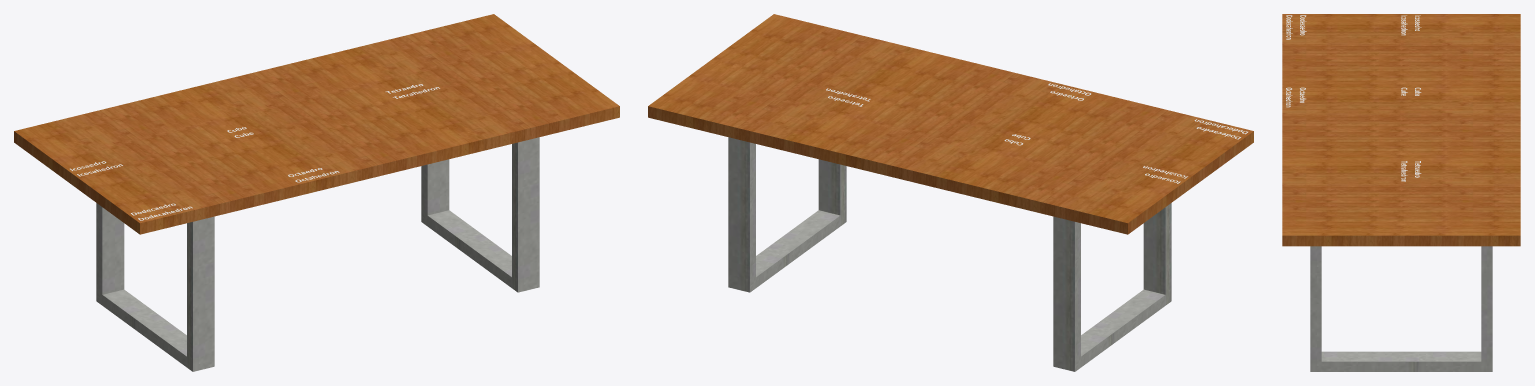
File: mesa_Platao.glb
3 renders of one model, left to right at view 1: azimuth 30°, elevation 25°; view 2: azimuth 150°, elevation 25°; view 3: azimuth 270°, elevation 25°, orthographic. The views are drawn at different scales.
Parts seen in each view (by area): view 1: object 1, Composant#1 (×2); view 2: object 1, Composant#1 (×2); view 3: object 1, Composant#1, Dodecaedro Dodec#2.
Boxes of the visible parts, left/top/right/bottom form: object 1: left=14, top=14, right=619, bottom=234; Composant#1 (×2): left=96, top=137, right=539, bottom=371; object 1: left=648, top=14, right=1253, bottom=234; Composant#1 (×2): left=728, top=137, right=1171, bottom=371; object 1: left=1282, top=14, right=1520, bottom=246; Composant#1: left=1310, top=246, right=1492, bottom=371; Dodecaedro Dodec#2: left=1286, top=15, right=1306, bottom=39.
Size of the model in its own units: 2.2 by 0.771 by 1.
Materials: 3 (2 with a texture image).
